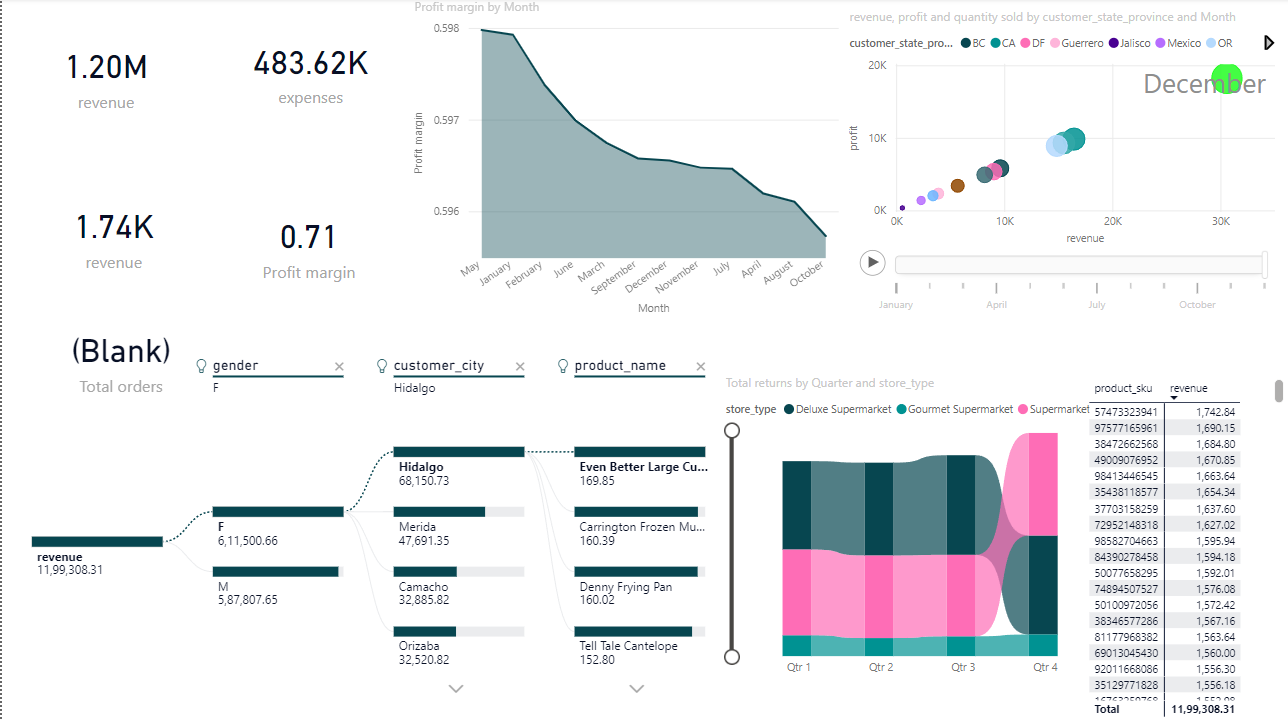

Layout of this report page (visuals, bound fields, positions):
{"tool":"powerbi","page":{"name":"Page 1","canvas":[1280,720],"ordinal":0},"visuals":[{"type":"card","fields":{"Values":["Products.revenue"]},"box":[0,10.1,207.4,133.9],"z":0},{"type":"card","fields":{"Values":["Products.expenses"]},"box":[178.6,0,256.5,144.6],"z":1000},{"type":"card","fields":{"Values":["Products.revenue"]},"box":[14.4,151.2,193,168.5],"z":2000},{"type":"card","fields":{"Values":["Products.Profit margin"]},"box":[206.9,161.6,198.4,168.7],"z":3000},{"type":"ribbonChart","fields":{"Category":["Transactions_2022.transaction_date.Variation.Date Hierarchy.Quarter"],"Y":["Products.Total returns"],"Series":["Stores.store_type"]},"box":[715.7,374.4,377.3,308.2],"z":4000},{"type":"decompositionTreeVisual","fields":{"Analyze":["Products.revenue"],"ExplainBy":["Customers.gender","Customers.customer_city","Products.product_name"]},"box":[0,341.3,715.7,378.7],"z":5000},{"type":"scatterChart","fields":{"X":["Products.revenue"],"Y":["Products.profit"],"Size":["Products.quantity sold"],"Series":["Customers.customer_state_province"],"Play":["Transactions_2022.transaction_date.Variation.Date Hierarchy.Month"]},"box":[838.1,10.1,442.1,319.7],"z":6000},{"type":"stackedAreaChart","fields":{"Y":["Products.Profit margin"],"Category":["Transactions_2022.transaction_date.Variation.Date Hierarchy.Month"]},"box":[406.1,0,432,319.7],"z":7000},{"type":"pivotTable","fields":{"Rows":["Products.product_sku"],"Values":["Products.revenue"]},"box":[1077.1,374.4,203,345.6],"z":8000},{"type":"card","fields":{"Values":["Products.Total orders"]},"box":[0,292.3,237.6,133.9],"z":9000}]}

Visuals, with their boxes in screenshot pixels (x1, y1, x2, y2), scaled from the page's 1280x720 canvas onto the 1288x720 screenshot:
card - Products.revenue: 0,10,209,144
card - Products.expenses: 180,0,438,145
card - Products.revenue: 14,151,209,320
card - Products.Profit margin: 208,162,408,330
ribbonChart - Transactions_2022.transaction_date.Variation.Date Hierarchy.Quarter x Products.Total returns: 720,374,1100,683
decompositionTreeVisual - Products.revenue x Customers.gender: 0,341,720,719
scatterChart - Products.revenue x Products.profit: 843,10,1287,330
stackedAreaChart - Products.Profit margin x Transactions_2022.transaction_date.Variation.Date Hierarchy.Month: 409,0,843,320
pivotTable - Products.product_sku x Products.revenue: 1084,374,1287,719
card - Products.Total orders: 0,292,239,426
